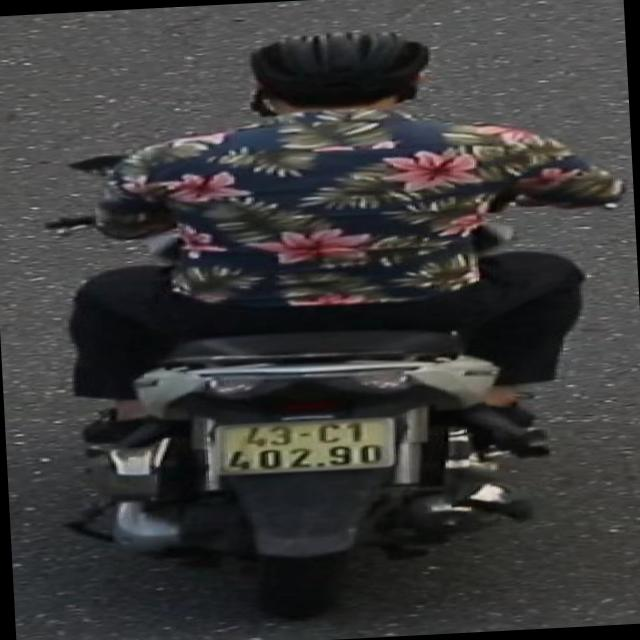LP: (203, 410, 406, 479)
helmet: (233, 20, 458, 144)
